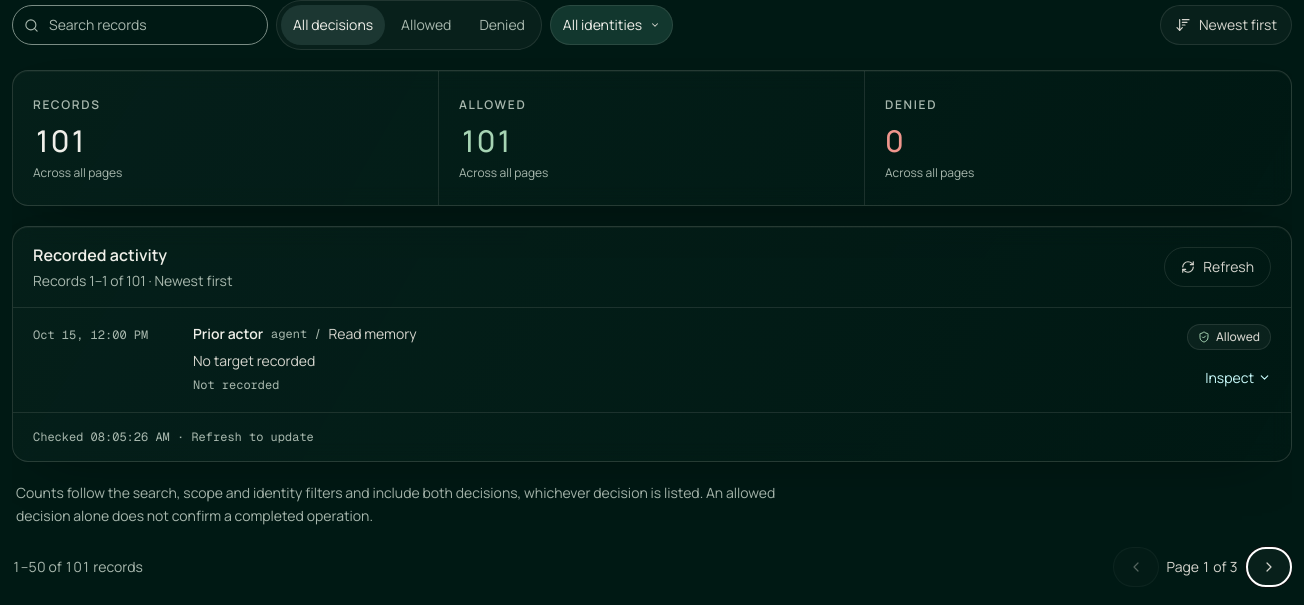
keeps Next focused through a held page and success result without stale records or counts
The image size is (1304, 605).
Click the button named "Next page".
click(1269, 567)  # box [1246,547,1292,587]
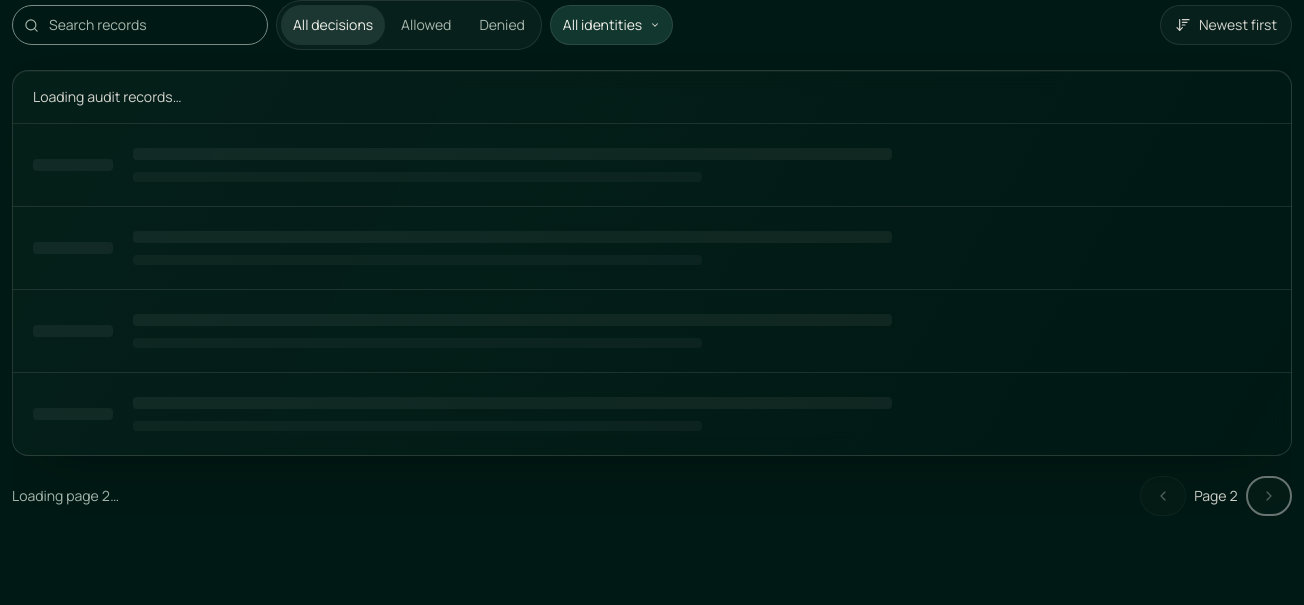
Check: the text "Prior actor" is gone
Check: the text "Records 1–1 of 101 · Newest first" is gone
Click the button named "Next page".
click(1269, 496)  # box [1246,476,1292,516]
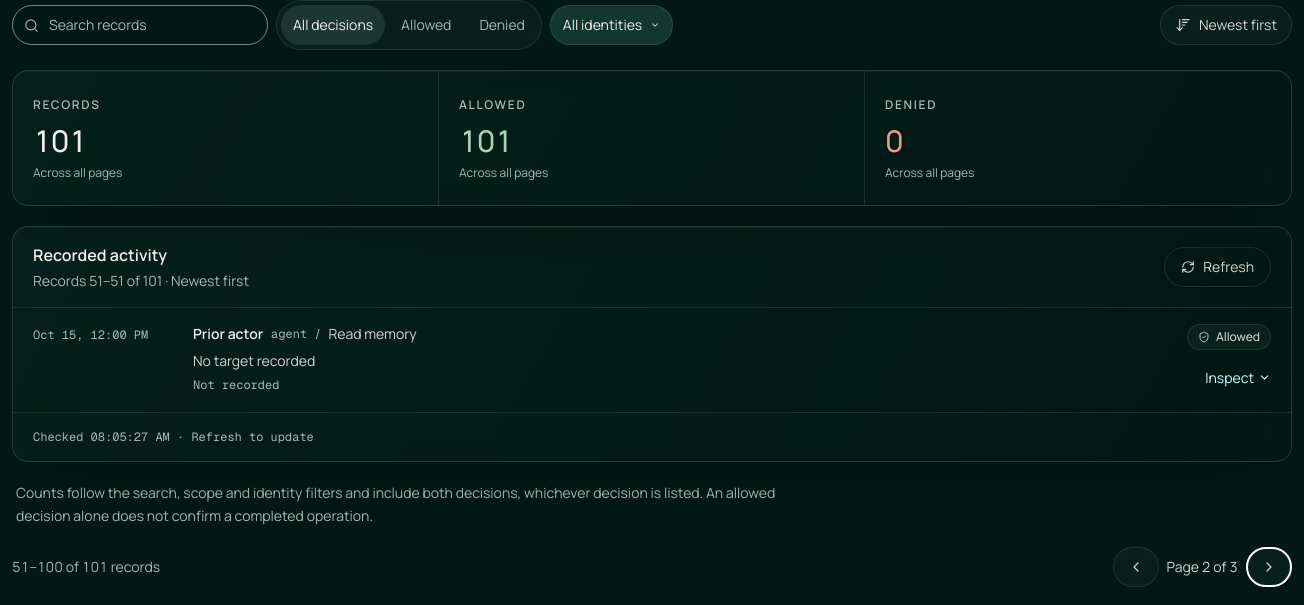
Check: the text "Page 2 of 3" is shown, box [1167,557,1238,577]
